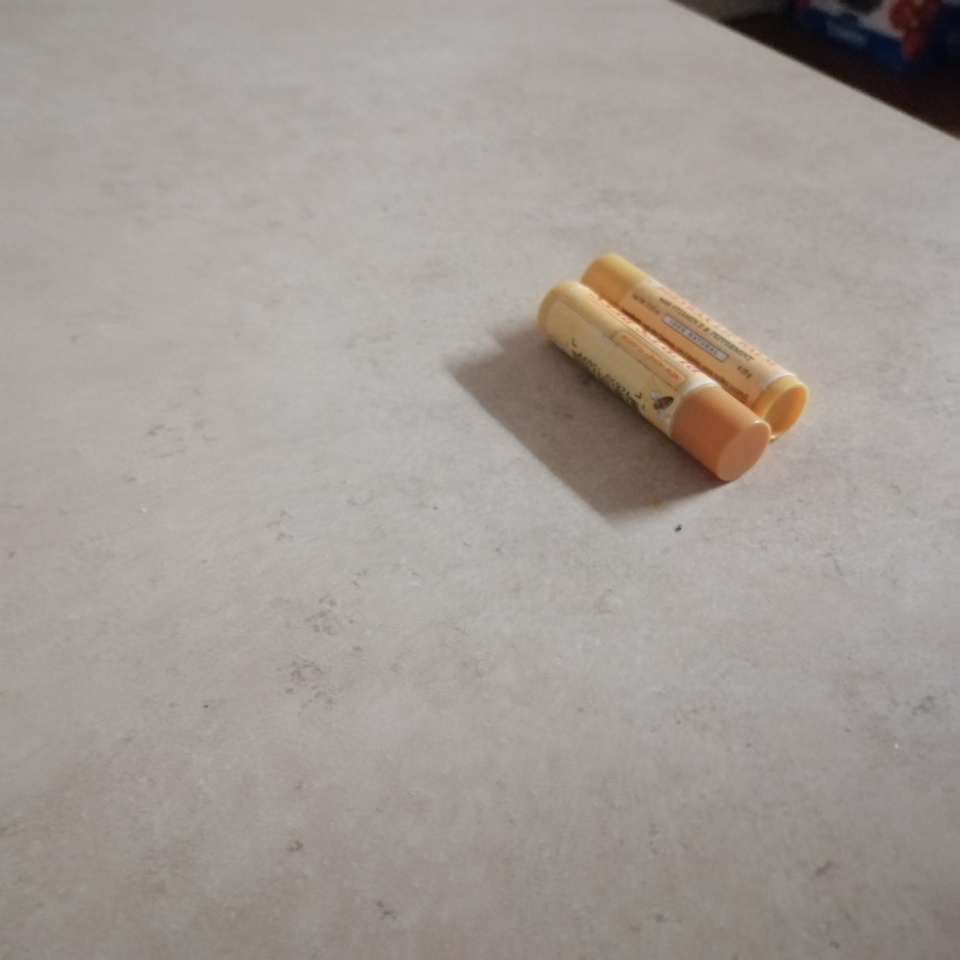chapstick: (537, 281, 772, 483), (581, 253, 809, 438)
